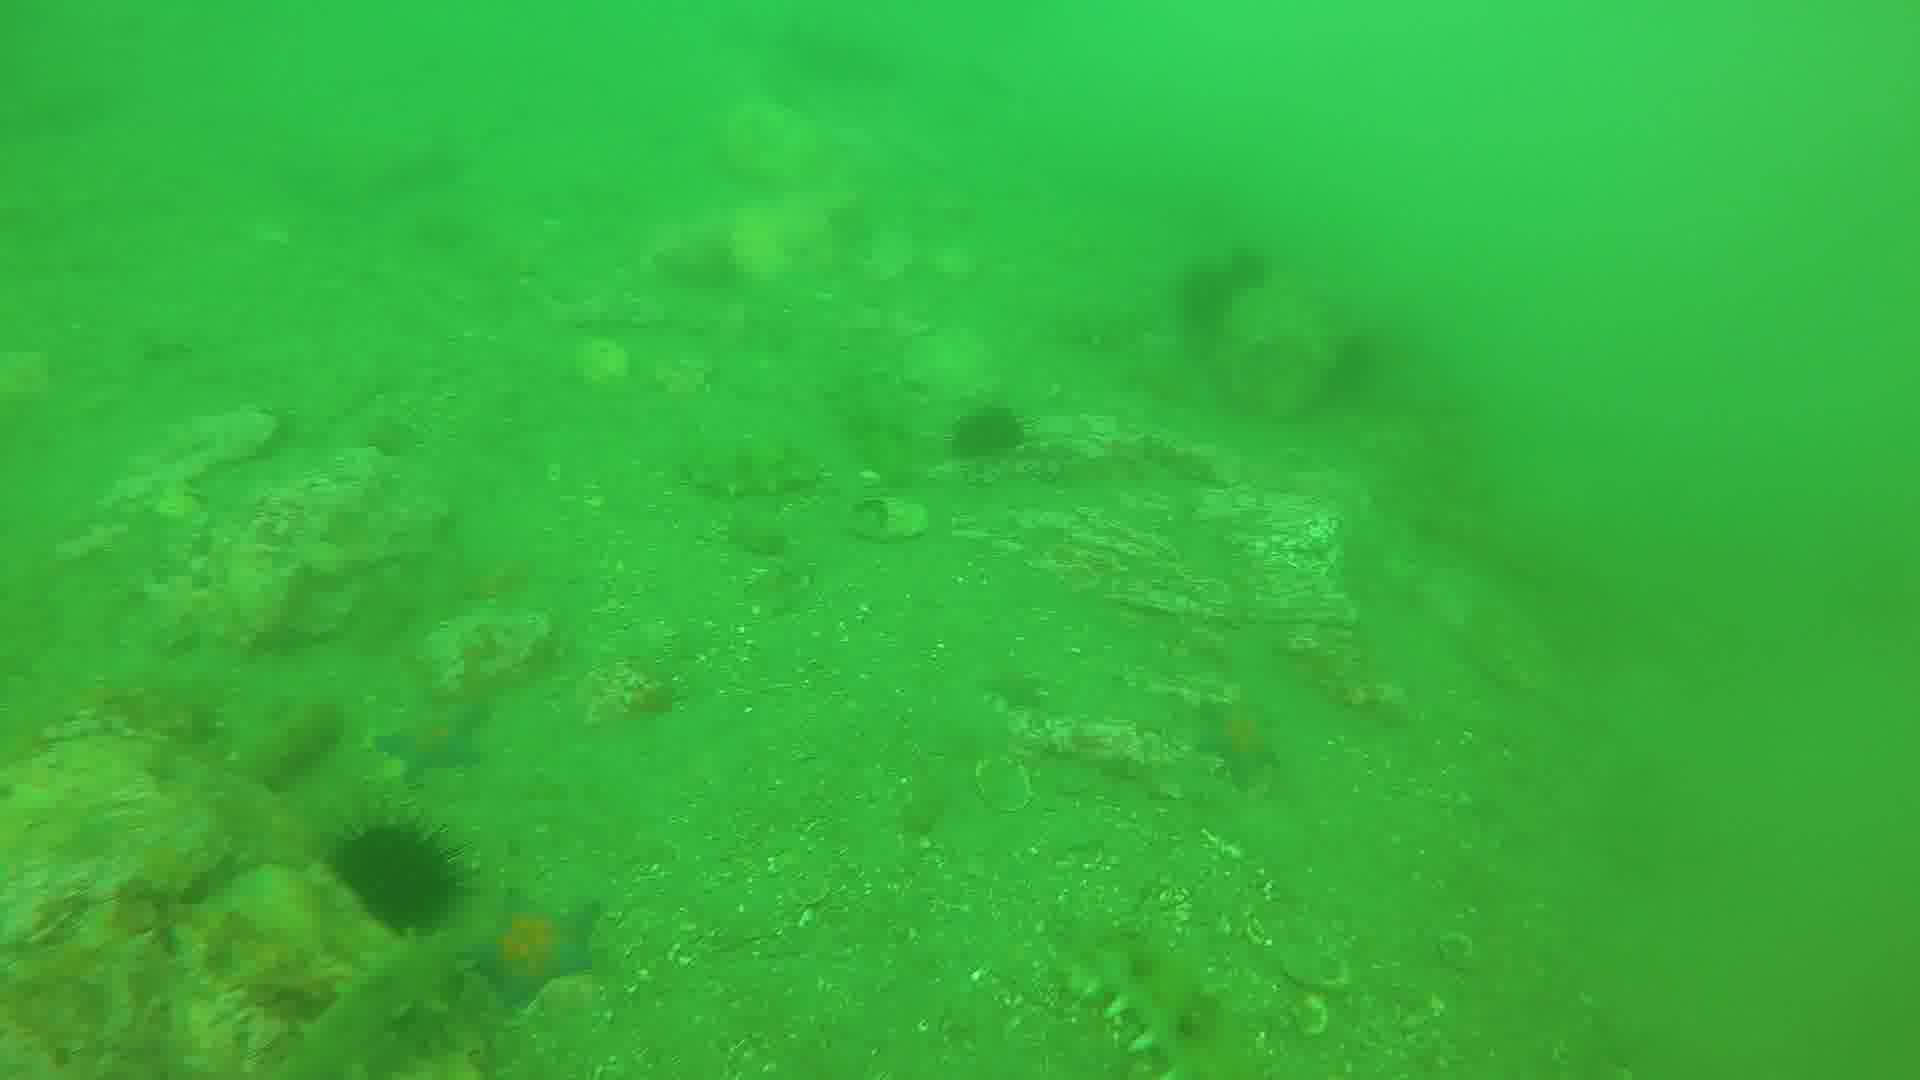echinus: (339, 820, 472, 944), (945, 401, 1021, 463), (1174, 277, 1238, 344), (1222, 244, 1273, 297)
holothurian: (1056, 913, 1261, 1080), (272, 935, 492, 1075)
starfish: (472, 889, 603, 1009), (389, 688, 493, 778), (1192, 698, 1280, 789)
